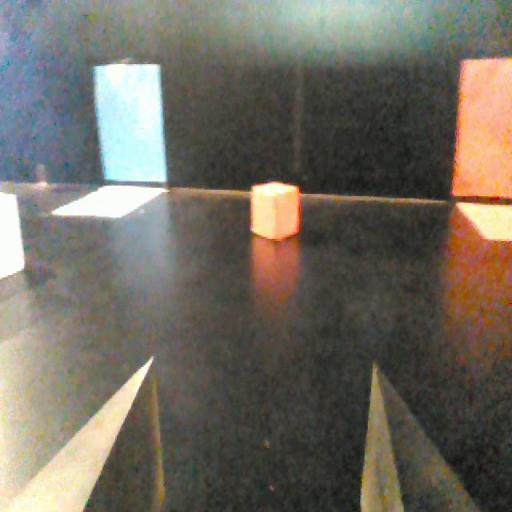cube: (246, 180, 308, 256), (0, 192, 30, 286)
